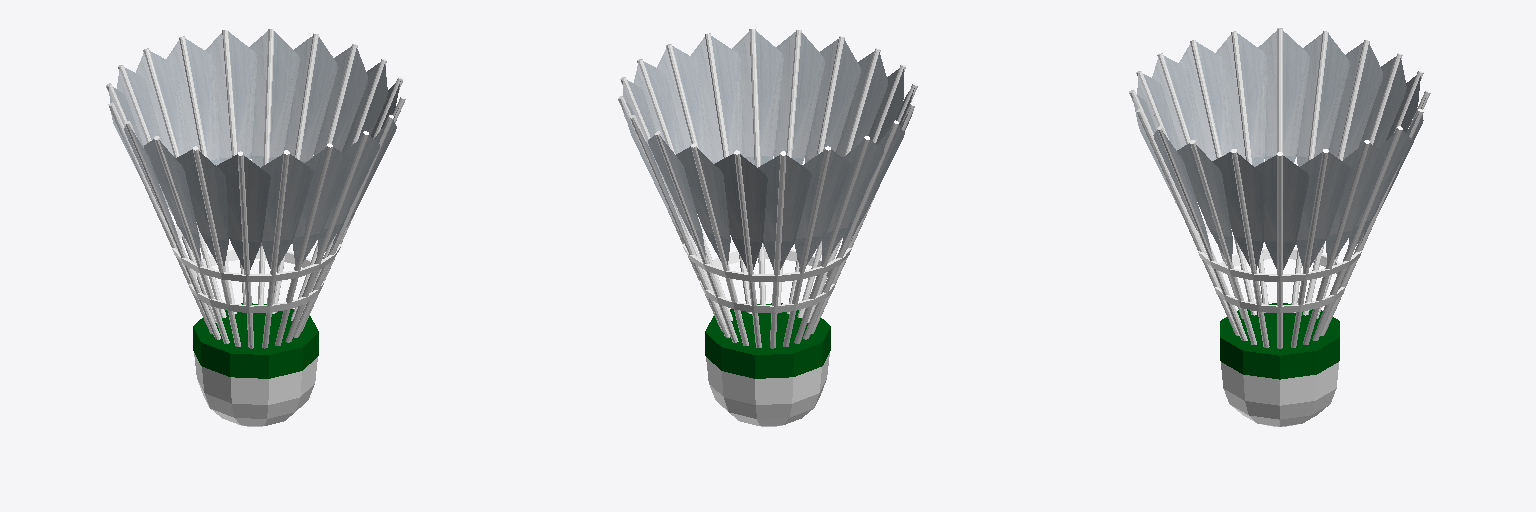
3 views of the same model, side by side, from view 1: azimuth 30°, elevation 25°; view 2: azimuth 150°, elevation 25°; view 3: azimuth 270°, elevation 25° (orthographic).
Parts seen in each view (by area): view 1: 042_Cylinder, 043_Sphere_-_baked, 010_SquarePlane_-_baked, 011_SquarePlane_-_baked, 009_SquarePlane_-_baked, 012_SquarePlane_-_baked, 020_SquarePlane_-_baked, 021_SquarePlane_-_baked, 019_SquarePlane_-_baked, 002_SquarePlane_-_baked, 008_SquarePlane_-_baked, 013_SquarePlane_-_baked (+25 smaller); view 2: 042_Cylinder, 043_Sphere_-_baked, 004_SquarePlane_-_baked, 003_SquarePlane_-_baked, 005_SquarePlane_-_baked, 014_SquarePlane_-_baked, 002_SquarePlane_-_baked, 013_SquarePlane_-_baked, 015_SquarePlane_-_baked, 006_SquarePlane_-_baked, 012_SquarePlane_-_baked, 021_SquarePlane_-_baked (+25 smaller); view 3: 042_Cylinder, 043_Sphere_-_baked, 017_SquarePlane_-_baked, 018_SquarePlane_-_baked, 016_SquarePlane_-_baked, 007_SquarePlane_-_baked, 019_SquarePlane_-_baked, 006_SquarePlane_-_baked, 008_SquarePlane_-_baked, 015_SquarePlane_-_baked, 005_SquarePlane_-_baked, 009_SquarePlane_-_baked (+24 smaller).
Boxes of the visible parts, x1,y1,x2,y2 form: 042_Cylinder: [193, 303, 318, 378]; 043_Sphere_-_baked: [194, 353, 317, 426]; 010_SquarePlane_-_baked: [249, 31, 299, 167]; 011_SquarePlane_-_baked: [205, 31, 256, 162]; 009_SquarePlane_-_baked: [283, 36, 337, 162]; 012_SquarePlane_-_baked: [166, 38, 219, 165]; 020_SquarePlane_-_baked: [217, 154, 270, 269]; 021_SquarePlane_-_baked: [261, 154, 313, 268]; 019_SquarePlane_-_baked: [175, 149, 228, 265]; 002_SquarePlane_-_baked: [292, 147, 351, 263]; 008_SquarePlane_-_baked: [313, 46, 367, 156]; 013_SquarePlane_-_baked: [136, 50, 189, 155]; 042_Cylinder: [705, 303, 830, 378]; 043_Sphere_-_baked: [706, 353, 829, 426]; 004_SquarePlane_-_baked: [732, 31, 783, 164]; 003_SquarePlane_-_baked: [774, 32, 824, 164]; 005_SquarePlane_-_baked: [691, 36, 741, 163]; 014_SquarePlane_-_baked: [758, 155, 811, 269]; 002_SquarePlane_-_baked: [805, 39, 860, 162]; 013_SquarePlane_-_baked: [714, 154, 767, 269]; 015_SquarePlane_-_baked: [794, 150, 851, 266]; 006_SquarePlane_-_baked: [657, 46, 713, 163]; 012_SquarePlane_-_baked: [676, 146, 730, 264]; 021_SquarePlane_-_baked: [836, 52, 887, 156]; 042_Cylinder: [1220, 303, 1339, 379]; 043_Sphere_-_baked: [1221, 362, 1338, 426]; 017_SquarePlane_-_baked: [1258, 31, 1309, 162]; 018_SquarePlane_-_baked: [1216, 33, 1266, 166]; 016_SquarePlane_-_baked: [1296, 33, 1349, 166]; 007_SquarePlane_-_baked: [1255, 155, 1309, 269]; 019_SquarePlane_-_baked: [1179, 42, 1233, 160]; 006_SquarePlane_-_baked: [1212, 152, 1264, 269]; 008_SquarePlane_-_baked: [1296, 152, 1350, 267]; 015_SquarePlane_-_baked: [1329, 42, 1382, 159]; 005_SquarePlane_-_baked: [1177, 143, 1232, 261]; 009_SquarePlane_-_baked: [1326, 143, 1385, 263].
Size of the model in its own units: 68.97 by 83.52 by 68.97.
6 materials, 1 textured.